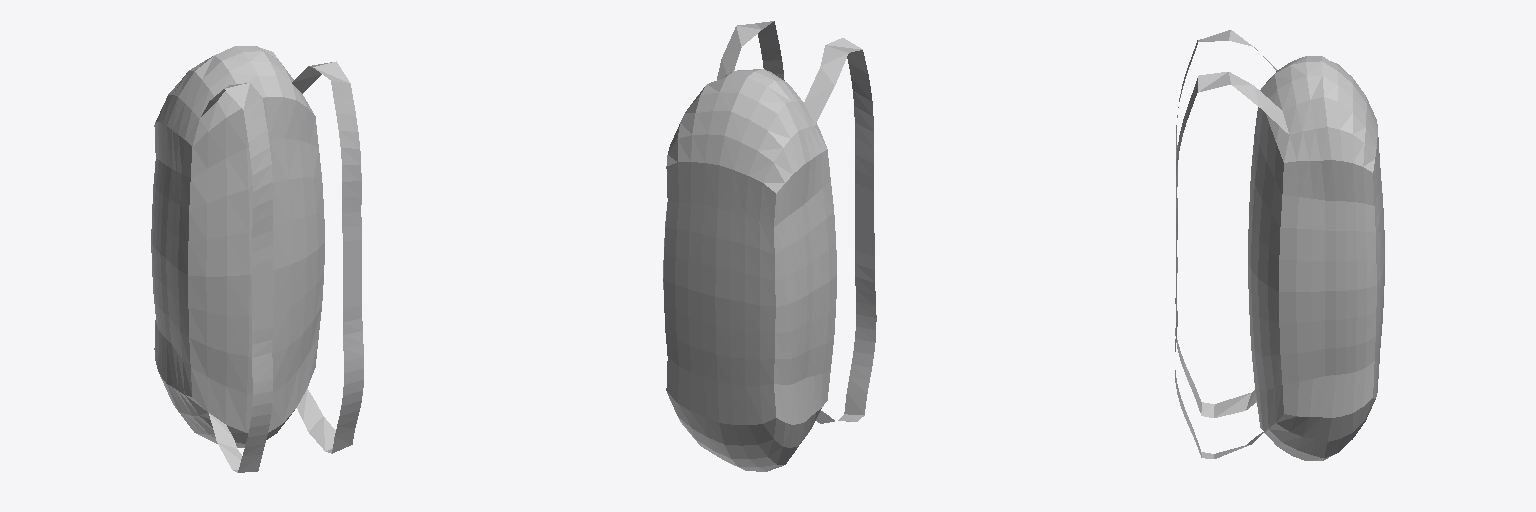
Rendered from backpack_2.obj.
3 views of the same model, side by side, from view 1: azimuth 30°, elevation 25°; view 2: azimuth 150°, elevation 25°; view 3: azimuth 270°, elevation 25° (orthographic).
Parts seen in each view (by area): view 1: Cube_Cube.003; view 2: Cube_Cube.003; view 3: Cube_Cube.003.
Part boxes in pixels (x1,y1,x2,y2): Cube_Cube.003: (151,46,363,472); Cube_Cube.003: (663,21,876,471); Cube_Cube.003: (1175,30,1384,460).
Bounding box in the file's own units: 0.5165 × 1.41 × 0.6731.